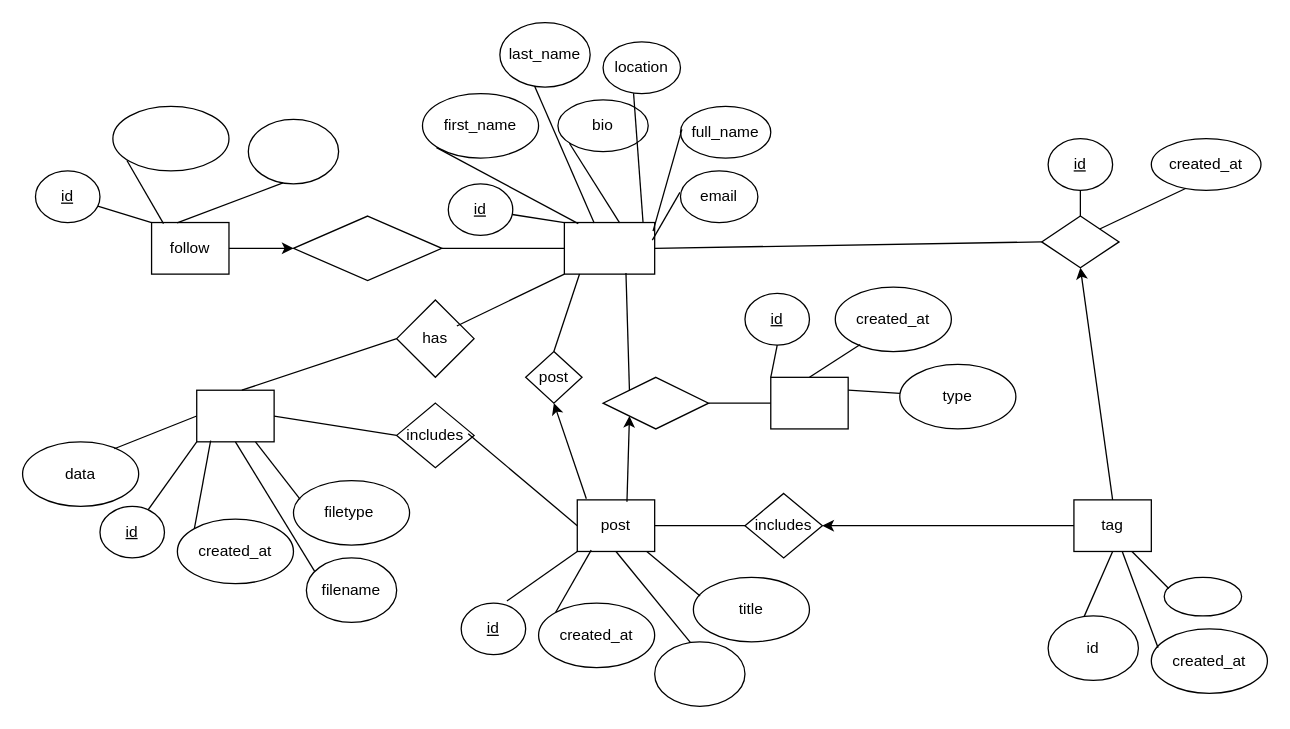
This 1290x729 diagram has some shape labels left out. The centre of each missing label's shape, as x and y in pixels:
"body" goes at point (699, 673).
"follow friend" goes at point (367, 248).
"follower_id" goes at point (170, 138).
"following_id" goes at point (293, 151).
"interact" goes at point (655, 402).
"interaction" goes at point (808, 402).
"interest" goes at point (1079, 241).
"name" goes at point (1202, 596).
"photo" goes at point (234, 415).
"user" goes at point (609, 247).
